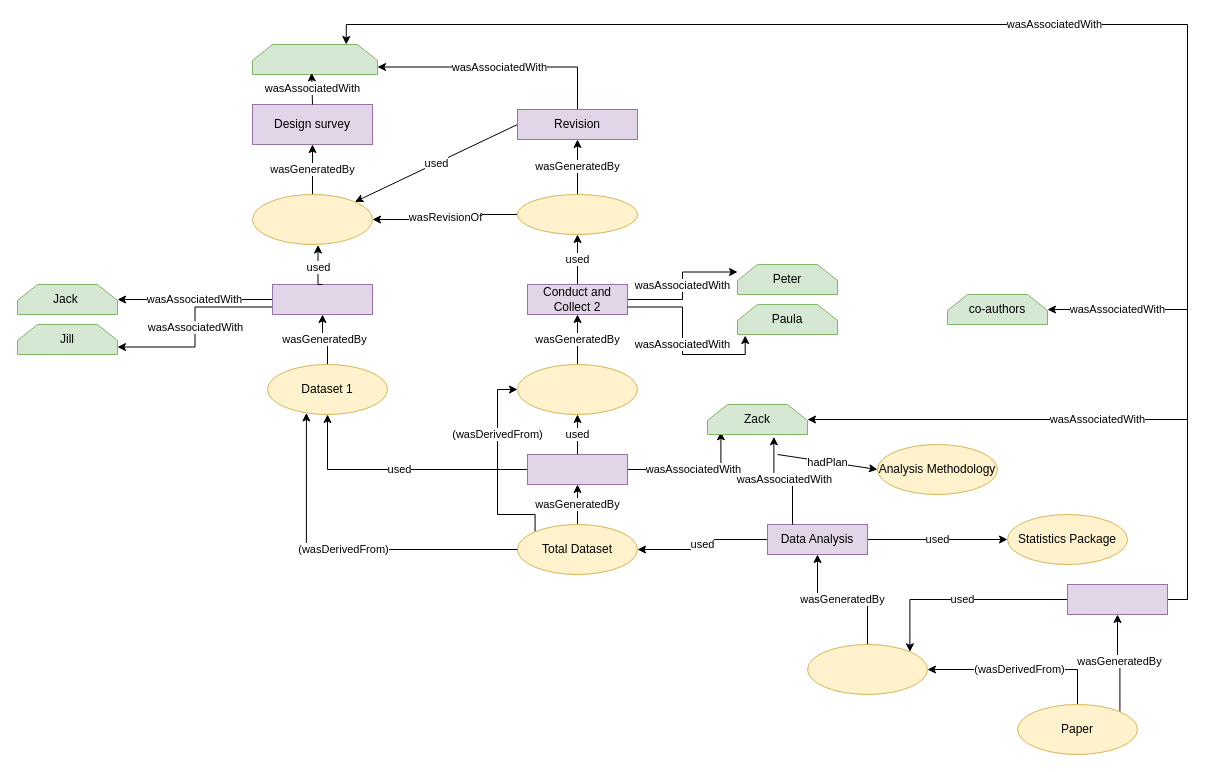
The diagram is 1213 pixels wide and 772 high, and some of its shapes have lost their labels. The box of each missing label's shape, as (x1, y1, x2, y2) in pixels:
Analysis Results: (806, 644, 928, 694)
Compillation: (526, 454, 628, 484)
Conduct and Collect 1: (272, 284, 372, 314)
Dataset 2: (516, 364, 638, 414)
Laura: (252, 44, 378, 74)
original survey: (252, 194, 372, 244)
updated survey: (516, 194, 638, 234)
Write and Publish Paper: (1066, 584, 1168, 614)
